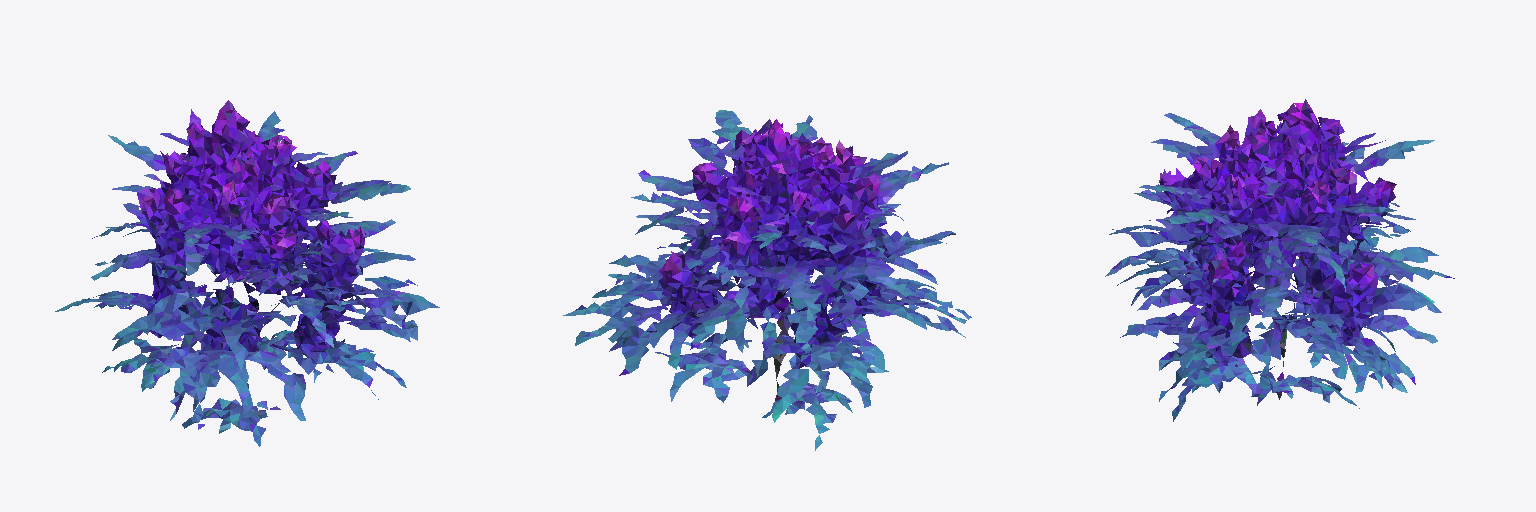
The picture shows the model from 3 angles: view 1: azimuth 30°, elevation 25°; view 2: azimuth 150°, elevation 25°; view 3: azimuth 270°, elevation 25°; orthographic projection.
Parts seen in each view (by area): view 1: obj1; view 2: obj1; view 3: obj1.
Part boxes in pixels (bbox=[...]): obj1: bbox=[55, 100, 439, 446]; obj1: bbox=[563, 110, 971, 450]; obj1: bbox=[1105, 99, 1454, 421].
Size of the model in its own units: 1.92 by 1.79 by 1.89.
Materials: 1 (1 with a texture image).